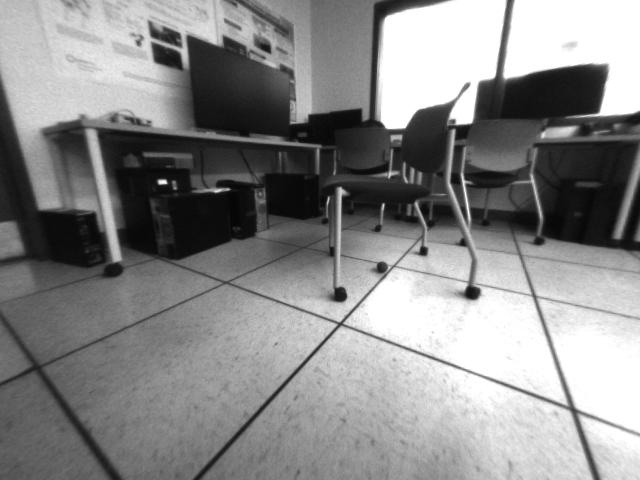dogtoy: (372, 258, 392, 280)
